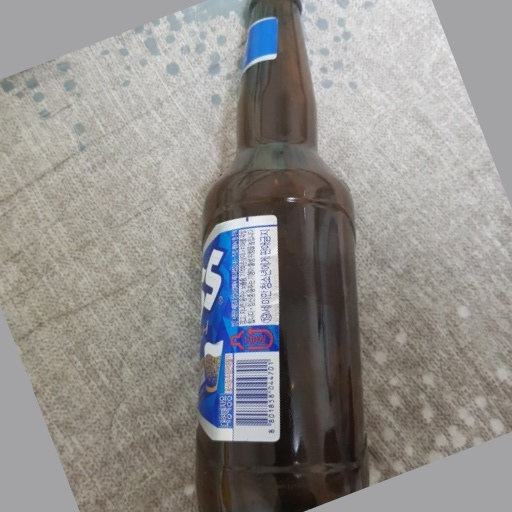Glass_1: (194, 3, 369, 512)
